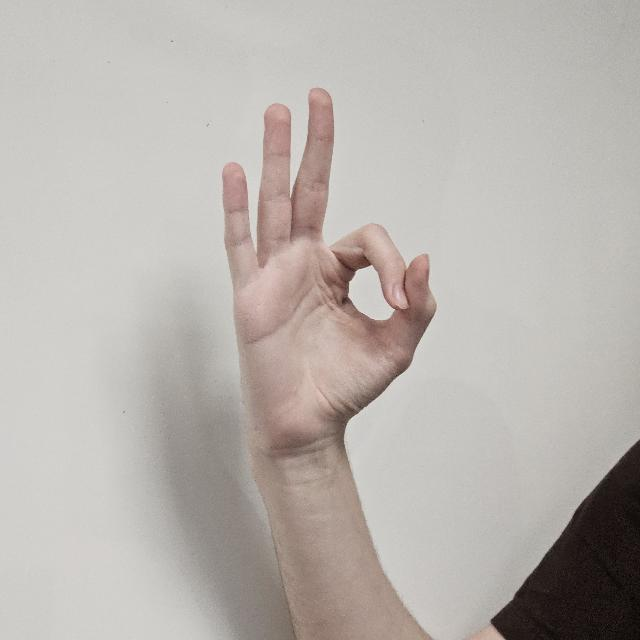Bolinha: (218, 86, 436, 440)
